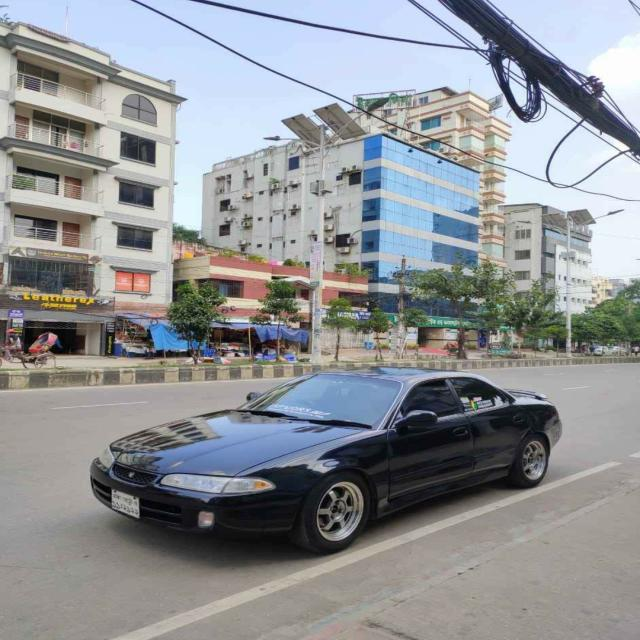black: (86, 371, 563, 553)
